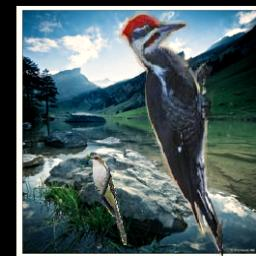Cuckoo: (86, 155, 127, 245)
Woodpecker: (119, 11, 223, 256)
